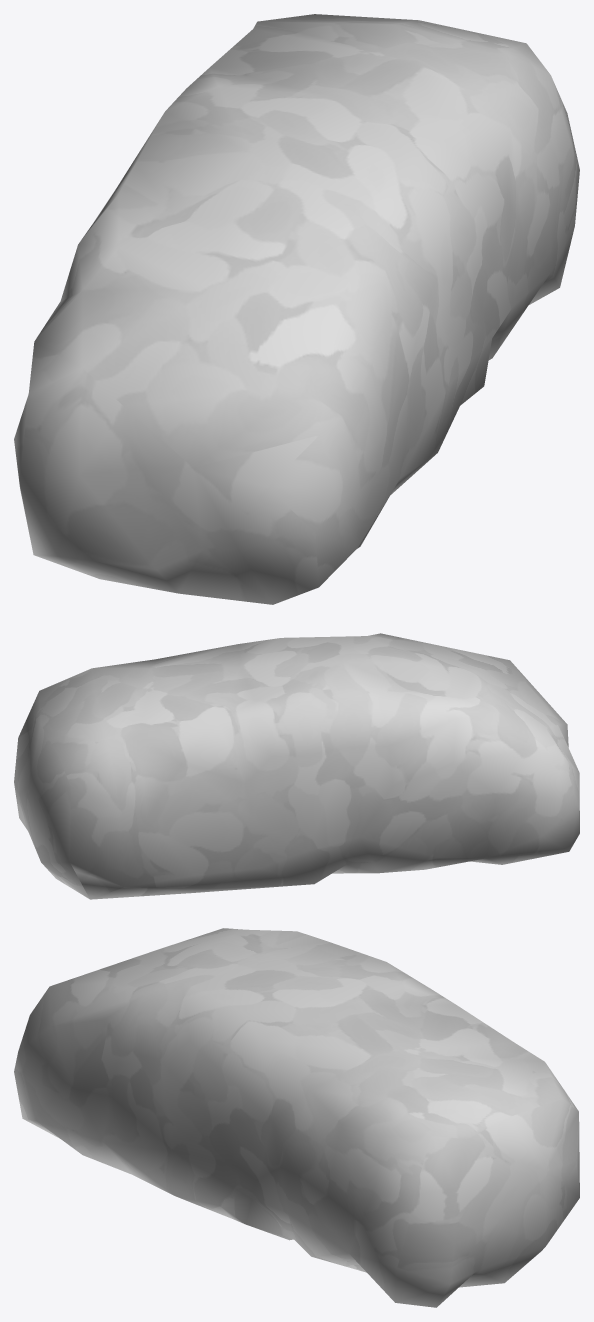
Rendered from _ice.fbx.
The picture shows the model from 3 angles, top to bottom: view 1: azimuth 30°, elevation 25°; view 2: azimuth 150°, elevation 25°; view 3: azimuth 270°, elevation 25°; orthographic projection. The views are drawn at different scales.
Visible parts, largest first — view 1: Riceball 4.008; view 2: Riceball 4.008; view 3: Riceball 4.008.
Boxes of the visible parts, x1,y1,x2,y2 form: Riceball 4.008: (14,14,579,604); Riceball 4.008: (14,633,579,899); Riceball 4.008: (14,928,579,1307).
Bounding box in the file's own units: 96.37 × 39.68 × 91.47.
1 material, 1 textured.
